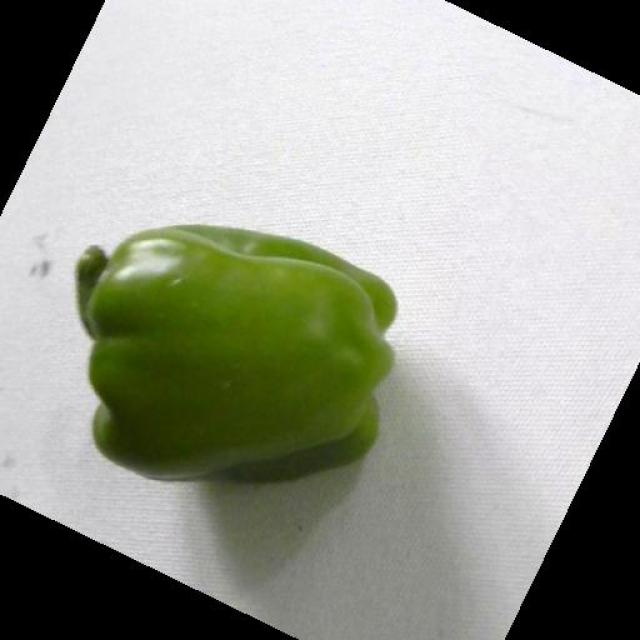Fresh_Capsicum: (74, 193, 406, 501)
